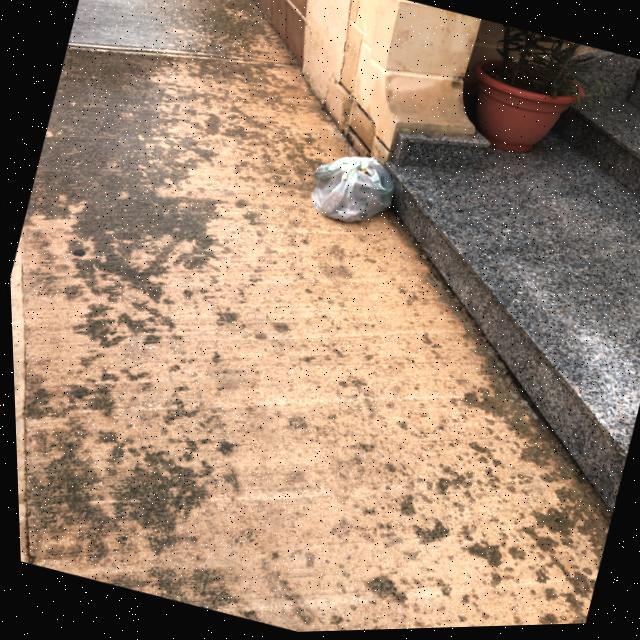Organic Waste -White Bag-: (295, 146, 406, 242)
